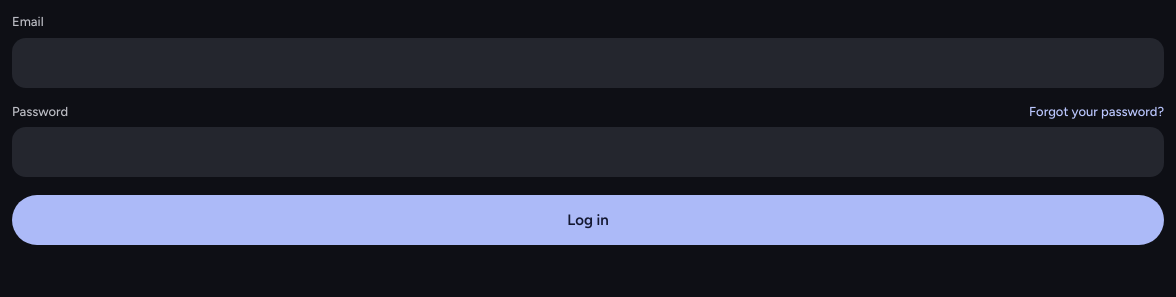
Test: LoginForm › shows a message for the whole form
Type "ada@example.com" into the field labelled "Email" at [588, 62], box [12, 38, 1164, 88]
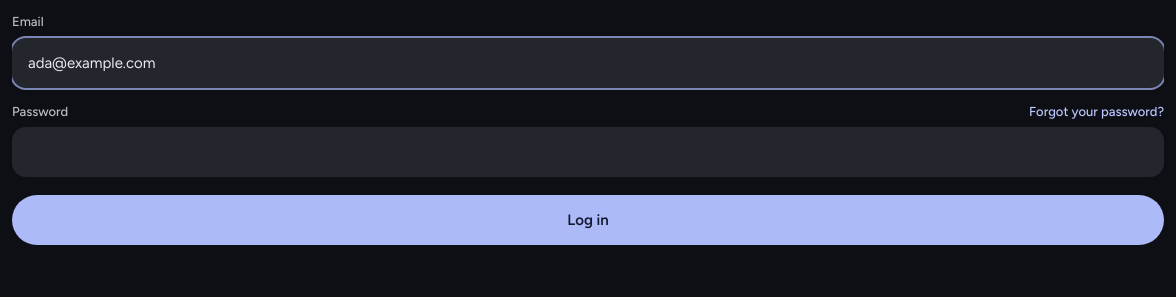
Type "a fake passphrase" into the password field labelled "Password" at [588, 152], box [12, 127, 1164, 177]
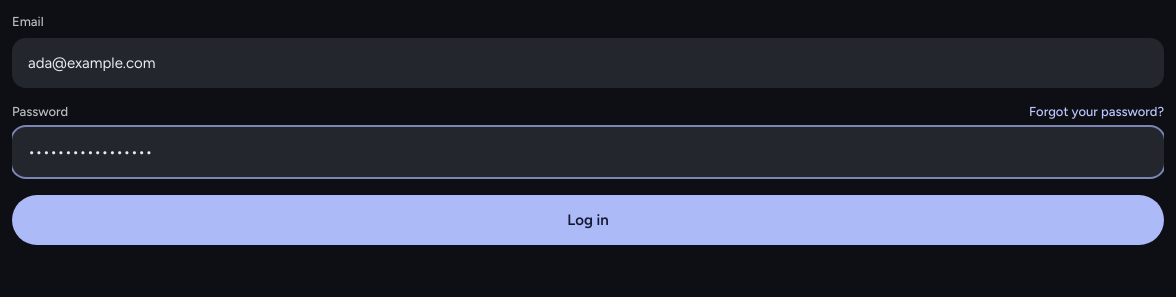
Click the button "Log in" at [588, 220], box [12, 195, 1164, 245]
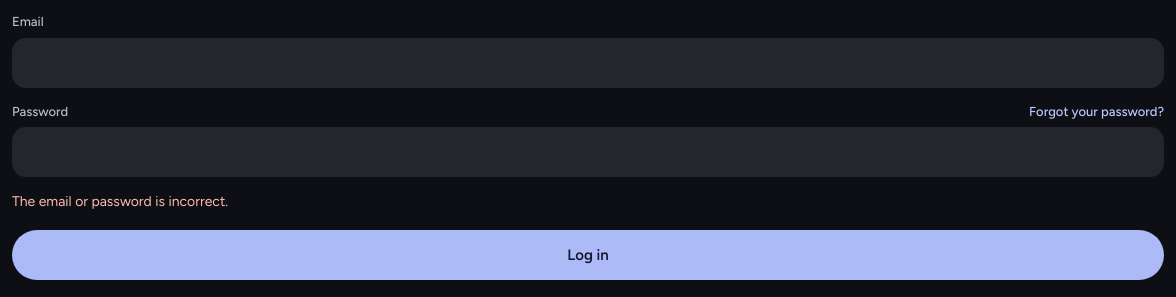
Now the message reads "The email or password is incorrect.", box [12, 193, 228, 210]
